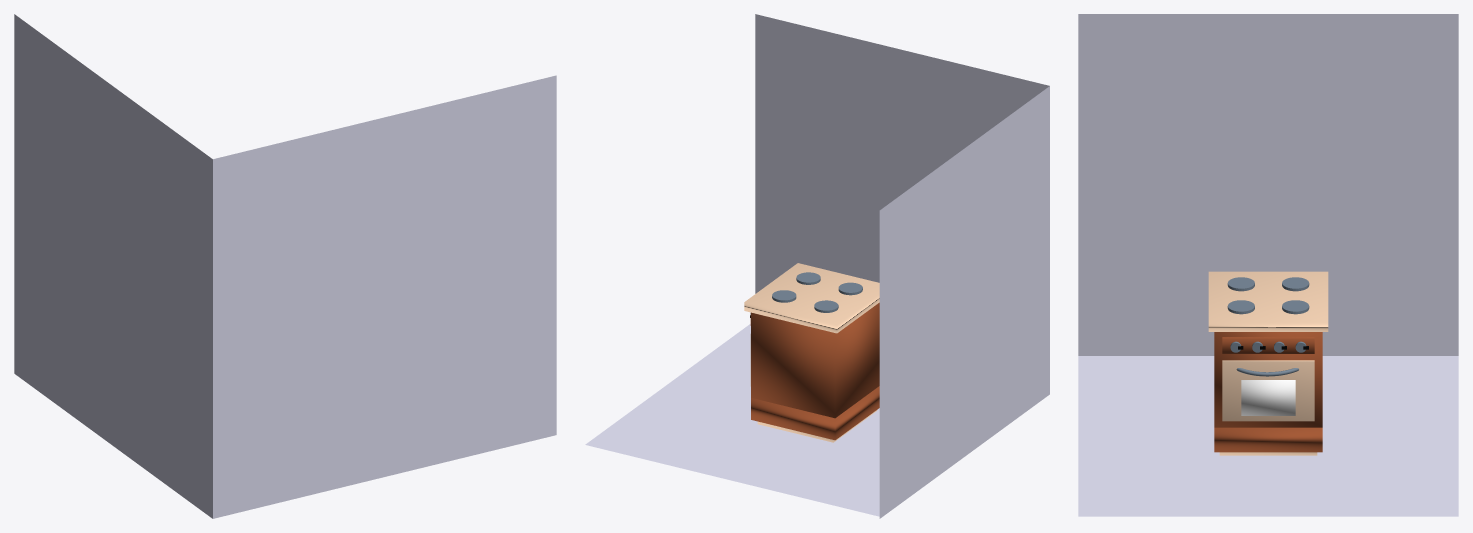
3 renders of one model, left to right at view 1: azimuth 30°, elevation 25°; view 2: azimuth 150°, elevation 25°; view 3: azimuth 270°, elevation 25°, orthographic. The views are drawn at different scales.
Parts seen in each view (by area): view 1: Plane.002, Plane.001; view 2: Plane.001, Plane.002, Plane, Cube, Cube.004, Cube.001; view 3: Plane.001, Plane, Cube.004, Cube.006, Cube, Cube.001, Cube.008, Cube.007.
Boxes of the visible parts, x1,y1,x2,y2 form: Plane.002: (213, 75, 556, 518); Plane.001: (14, 14, 212, 518); Plane.001: (879, 86, 1049, 518); Plane.002: (755, 14, 1049, 293); Plane: (585, 324, 879, 516); Cube: (751, 302, 879, 418); Cube.004: (744, 263, 879, 333); Cube.001: (751, 386, 879, 440); Plane.001: (1078, 14, 1458, 355); Plane: (1078, 356, 1458, 516); Cube.004: (1208, 271, 1328, 331); Cube.006: (1222, 360, 1314, 421); Cube: (1214, 332, 1322, 427); Cube.001: (1214, 427, 1322, 452); Cube.008: (1241, 380, 1295, 415); Cube.007: (1222, 337, 1314, 353).
Bounding box in the file's own units: 14 × 14 × 14.
